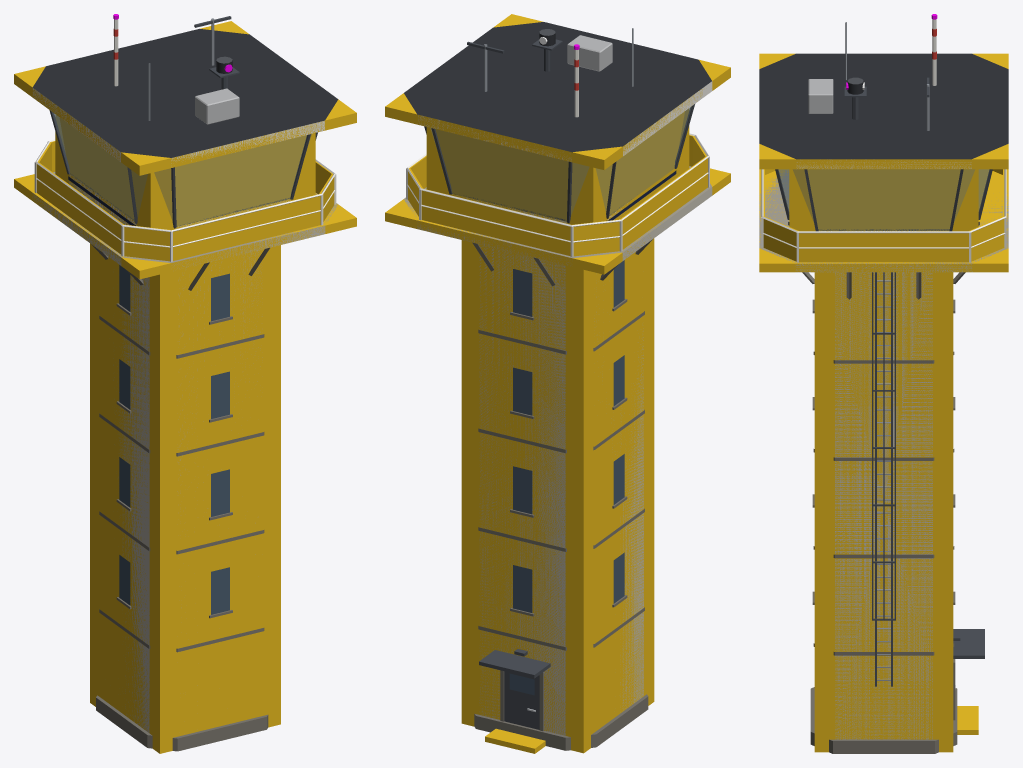
The model's file is lm_control_tower.glb.
3 renders of one model, left to right at view 1: azimuth 30°, elevation 25°; view 2: azimuth 150°, elevation 25°; view 3: azimuth 270°, elevation 25°, orthographic.
Parts seen in each view (by area): view 1: lm_control_tower__col, lm_control_tower__shell; view 2: lm_control_tower__col, lm_control_tower__shell; view 3: lm_control_tower__col, lm_control_tower__shell.
Part boxes in pixels (x1=…): lm_control_tower__col: x1=14, y1=21, x2=356, y2=753; lm_control_tower__shell: x1=32, y1=14, x2=338, y2=751; lm_control_tower__col: x1=385, y1=14, x2=730, y2=753; lm_control_tower__shell: x1=403, y1=22, x2=712, y2=750; lm_control_tower__col: x1=759, y1=53, x2=1008, y2=752; lm_control_tower__shell: x1=759, y1=14, x2=1008, y2=753.
Size of the model in its own units: 7.9 by 24 by 7.9.
3 materials, 1 textured.
